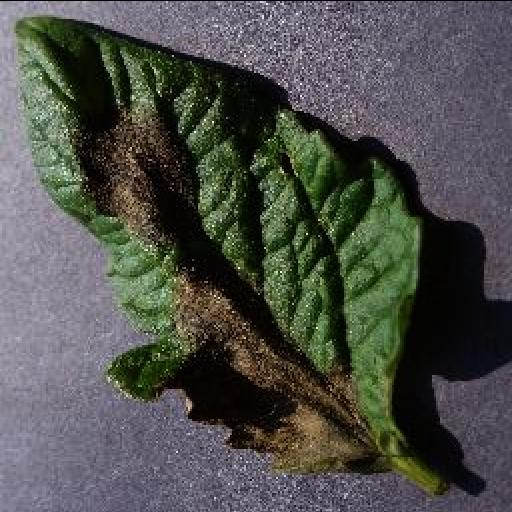disease_tomato: (14, 16, 428, 476)
